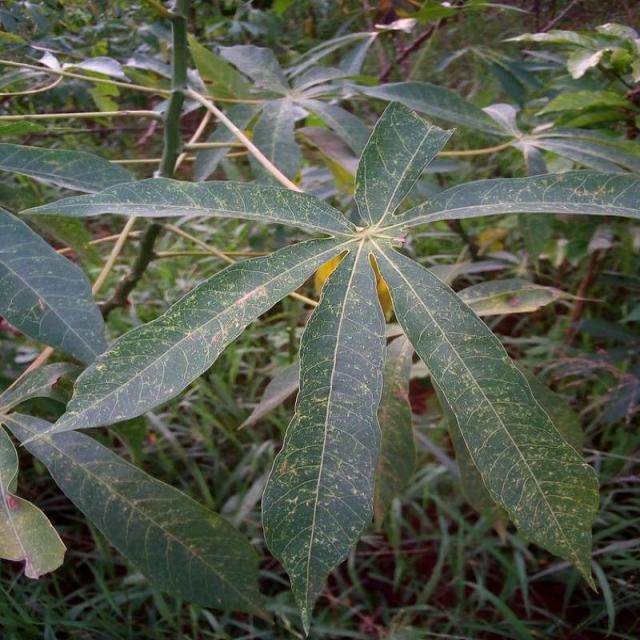cassava leaf: (7, 97, 638, 634), (371, 240, 601, 593), (260, 239, 387, 636)
